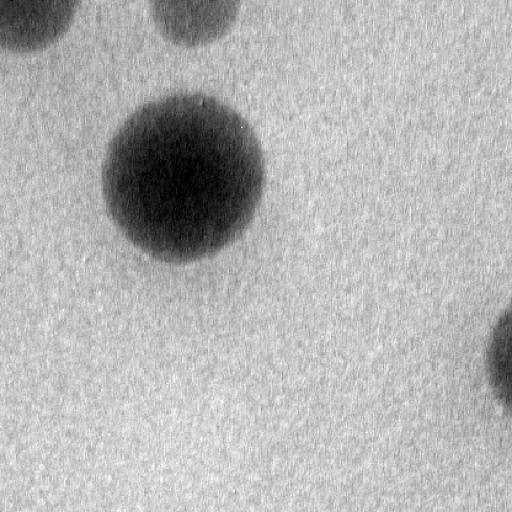Nanoparticles: (100, 92, 268, 260), (155, 0, 242, 47), (3, 1, 80, 49), (487, 300, 512, 412)
